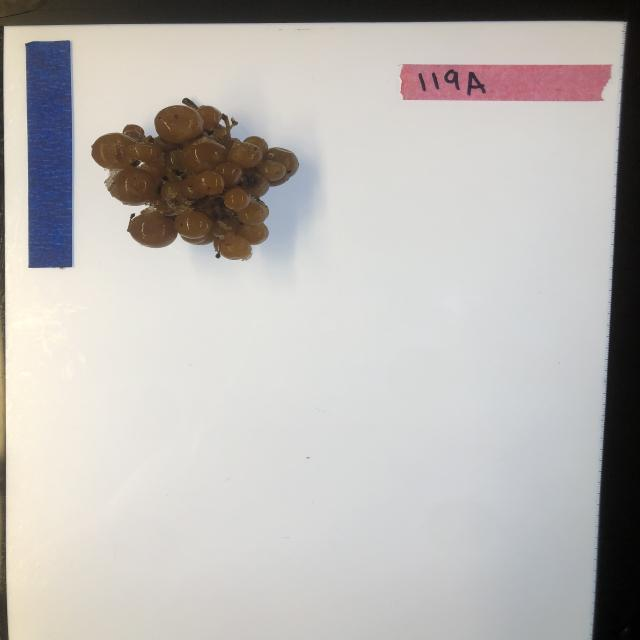grape_cluster: (90, 93, 301, 265)
index: (398, 61, 615, 103)
measure_label: (24, 38, 79, 271)
